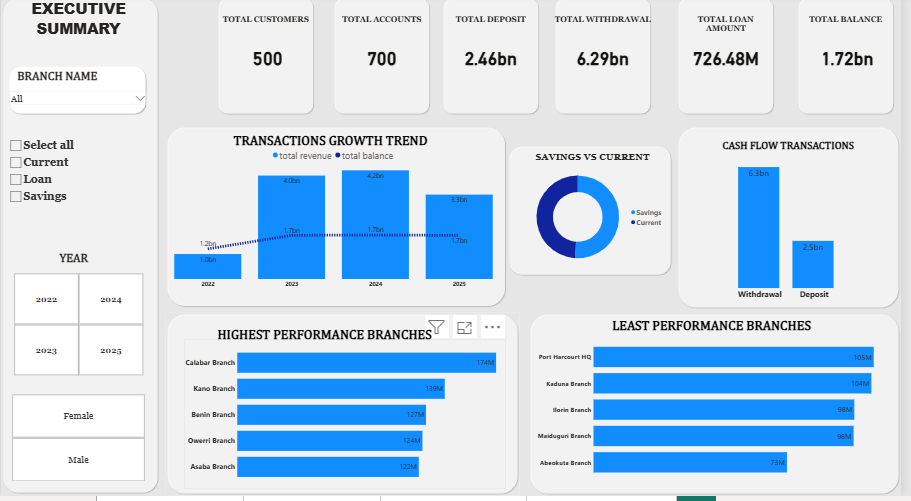

What the dashboard file says about the page in this screenshot:
{"tool":"powerbi","page":{"name":"Executive Summary","canvas":[3600,2000],"ordinal":0},"visuals":[{"type":"shape","box":[0,0,636,1996],"z":0},{"type":"textbox","box":[67.5,0,483.7,195.1],"z":1000},{"type":"group","id":"g1","title":"Group 1","box":[861.8,0,402.4,479.7],"z":2000},{"type":"group","id":"g2","title":"Group 1","box":[1325.2,0,398.4,479.7],"z":3000},{"type":"shape","box":[861.8,0,398.4,479.7],"z":4000,"group":"g1"},{"type":"shape","box":[1325.2,0,398.4,479.7],"z":4000,"group":"g2"},{"type":"group","id":"g3","title":"Group 1","box":[1760.2,0,398.4,479.7],"z":4000},{"type":"shape","box":[1760.2,0,398.4,479.7],"z":4000,"group":"g3"},{"type":"shape","box":[2207.3,0,398.4,479.7],"z":4000,"group":"g5"},{"type":"shape","box":[2699.2,0,398.4,479.7],"z":4000,"group":"g4"},{"type":"shape","box":[3178.9,0,398.4,479.7],"z":4000,"group":"g6"},{"type":"shape","box":[656,516,1369.5,733.1],"z":4000,"group":"g8"},{"type":"group","id":"g4","title":"Group 1","box":[2699.2,0,398.4,479.7],"z":5000},{"type":"textbox","box":[861.8,69.1,398.4,85.4],"z":5000,"group":"g1"},{"type":"textbox","box":[1325.2,69.1,398.4,85.4],"z":5000,"group":"g2"},{"type":"textbox","box":[1760.2,69.1,398.4,85.4],"z":5000,"group":"g3"},{"type":"textbox","box":[2207.3,69.1,398.4,85.4],"z":5000,"group":"g5"},{"type":"textbox","box":[2699.2,69.1,398.4,85.4],"z":5000,"group":"g4"},{"type":"textbox","box":[3178.9,69.1,398.4,85.4],"z":5000,"group":"g6"},{"type":"group","id":"g5","title":"Group 1","box":[2207.3,0,398.4,479.7],"z":6000},{"type":"cardVisual","fields":{"Data":["dax.total customers"]},"box":[870.9,110.1,394.3,276.4],"z":6000,"group":"g1"},{"type":"cardVisual","fields":{"Data":["dax.total balance"]},"box":[3188,110.1,394.3,276.4],"z":6000,"group":"g6"},{"type":"cardVisual","fields":{"Data":["dax.total accounts"]},"box":[1325.2,113.8,398.4,272.4],"z":6000,"group":"g2"},{"type":"cardVisual","fields":{"Data":["dax.total deposit"]},"box":[1760.2,113.8,398.4,272.4],"z":6000,"group":"g3"},{"type":"cardVisual","fields":{"Data":["dax.total withdraw"]},"box":[2207.3,113.8,398.4,272.4],"z":6000,"group":"g5"},{"type":"cardVisual","fields":{"Data":["Sum(loan.loan_amount)"]},"box":[2699.2,113.8,398.4,272.4],"z":6000,"group":"g4"},{"type":"group","id":"g6","title":"Group 1","box":[3178.9,0,402.4,479.7],"z":7000},{"type":"group","id":"g7","title":"Group 3","box":[2700,516,898.6,739.4],"z":8000},{"type":"group","id":"g8","title":"Group 1","box":[656,516,1369.5,733.1],"z":9000,"group":"g16"},{"type":"group","id":"g9","title":"Group 4","box":[2024,592,664,532],"z":9000},{"type":"lineClusteredColumnComboChart","fields":{"Category":["Date.year"],"Y":["dax.total revenue"],"Y2":["dax.total balance"]},"box":[688,604,1284,572],"z":10000,"group":"g16"},{"type":"group","id":"g10","title":"Group 5","box":[656,1264,1420,736],"z":10000},{"type":"textbox","box":[848,544,940,96],"z":11000,"group":"g16"},{"type":"group","id":"g11","title":"Group 5","box":[2108,1264,1492,736],"z":11000},{"type":"group","id":"g12","title":"Group 6","box":[25.4,274,568,208],"z":12000},{"type":"group","id":"g13","title":"Group 6","box":[23.4,560.8,572,376],"z":13000},{"type":"shape","box":[2024,592,664,532],"z":13000,"group":"g9"},{"type":"columnChart","fields":{"Y":["dax.total revenue"],"Category":["transactions.transaction_type"]},"box":[2748,614.8,792,609.2],"z":13000,"group":"g17"},{"type":"group","id":"g14","title":"Group 6","box":[27.4,1015.7,564,492],"z":14000},{"type":"shape","box":[656,1264,1420,736],"z":14000,"group":"g10"},{"type":"shape","box":[2108,1264,1492,736],"z":14000,"group":"g11"},{"type":"shape","box":[2700,516,898.6,739.4],"z":15000,"group":"g7"},{"type":"clusteredBarChart","fields":{"Category":["branch.branch_name"],"Y":["dax.total balance"]},"box":[2140,1348,1408,608],"z":15000,"group":"g11"},{"type":"clusteredBarChart","fields":{"Category":["branch.branch_name"],"Y":["dax.total balance"]},"box":[732.1,1370.6,1289.4,601.3],"z":15000,"group":"g10"},{"type":"group","id":"g15","title":"Group 6","box":[20.4,1586.5,578,358.6],"z":15000},{"type":"textbox","box":[2838.6,572,618.4,103.2],"z":15500,"group":"g17"},{"type":"group","id":"g16","title":"Group 7","box":[656,516,1369.5,733.1],"z":16000},{"type":"textbox","box":[2292.2,1283.7,1100.9,133.8],"z":16000,"group":"g11"},{"type":"textbox","box":[825.4,1318.2,941.2,118.9],"z":16000,"group":"g10"},{"type":"group","id":"g17","title":"Group 2","box":[2748,572,792,652],"z":16001,"group":"g7"},{"type":"shape","box":[25.4,274,564,208],"z":16501,"group":"g12"},{"type":"donutChart","fields":{"Y":["dax.total accounts"],"Category":["accounts.account_type"]},"box":[2090.7,671.6,564.3,423.4],"z":17000,"group":"g9"},{"type":"slicer","fields":{"Values":["branch.branch_name"]},"box":[25.4,373.8,568,106.2],"z":17002,"group":"g12"},{"type":"slicer","fields":{"Values":["accounts.account_type"]},"box":[23.4,560.8,572,376],"z":17002,"group":"g13"},{"type":"slicer","fields":{"Values":["Date.year"]},"box":[27.4,1104.3,564,419.4],"z":17002,"group":"g14"},{"type":"slicer","fields":{"Values":["customers.gender"]},"box":[20.4,1586.5,578,358.6],"z":17002,"group":"g15"},{"type":"textbox","box":[61.4,289,436,108],"z":17503,"group":"g12"},{"type":"textbox","box":[145.4,1015.7,293.7,87.9],"z":17503,"group":"g14"},{"type":"textbox","box":[2064,614.3,604.3,70.7],"z":19500,"group":"g9"}]}

Visuals, with their boxes in screenshot pixels (x1, y1, x2, y2), scaled from the page's 3600x2000 canvas onto the 911x501 screenshot:
shape: {"left": 0, "top": 0, "right": 161, "bottom": 500}
textbox: {"left": 17, "top": 0, "right": 139, "bottom": 49}
"Group 1" group: {"left": 218, "top": 0, "right": 320, "bottom": 120}
"Group 1" group: {"left": 335, "top": 0, "right": 436, "bottom": 120}
shape: {"left": 218, "top": 0, "right": 319, "bottom": 120}
shape: {"left": 335, "top": 0, "right": 436, "bottom": 120}
"Group 1" group: {"left": 445, "top": 0, "right": 546, "bottom": 120}
shape: {"left": 445, "top": 0, "right": 546, "bottom": 120}
shape: {"left": 559, "top": 0, "right": 659, "bottom": 120}
shape: {"left": 683, "top": 0, "right": 784, "bottom": 120}
shape: {"left": 804, "top": 0, "right": 905, "bottom": 120}
shape: {"left": 166, "top": 129, "right": 513, "bottom": 313}
"Group 1" group: {"left": 683, "top": 0, "right": 784, "bottom": 120}
textbox: {"left": 218, "top": 17, "right": 319, "bottom": 39}
textbox: {"left": 335, "top": 17, "right": 436, "bottom": 39}
textbox: {"left": 445, "top": 17, "right": 546, "bottom": 39}
textbox: {"left": 559, "top": 17, "right": 659, "bottom": 39}
textbox: {"left": 683, "top": 17, "right": 784, "bottom": 39}
textbox: {"left": 804, "top": 17, "right": 905, "bottom": 39}
"Group 1" group: {"left": 559, "top": 0, "right": 659, "bottom": 120}
cardVisual - dax.total customers: {"left": 220, "top": 28, "right": 320, "bottom": 97}
cardVisual - dax.total balance: {"left": 807, "top": 28, "right": 907, "bottom": 97}
cardVisual - dax.total accounts: {"left": 335, "top": 29, "right": 436, "bottom": 97}
cardVisual - dax.total deposit: {"left": 445, "top": 29, "right": 546, "bottom": 97}
cardVisual - dax.total withdraw: {"left": 559, "top": 29, "right": 659, "bottom": 97}
cardVisual - Sum(loan.loan_amount): {"left": 683, "top": 29, "right": 784, "bottom": 97}
"Group 1" group: {"left": 804, "top": 0, "right": 906, "bottom": 120}
"Group 3" group: {"left": 683, "top": 129, "right": 910, "bottom": 314}
"Group 1" group: {"left": 166, "top": 129, "right": 513, "bottom": 313}
"Group 4" group: {"left": 512, "top": 148, "right": 680, "bottom": 282}
lineClusteredColumnComboChart - Date.year x dax.total revenue: {"left": 174, "top": 151, "right": 499, "bottom": 295}
"Group 5" group: {"left": 166, "top": 317, "right": 525, "bottom": 500}
textbox: {"left": 215, "top": 136, "right": 452, "bottom": 160}
"Group 5" group: {"left": 533, "top": 317, "right": 910, "bottom": 500}
"Group 6" group: {"left": 6, "top": 69, "right": 150, "bottom": 121}
"Group 6" group: {"left": 6, "top": 140, "right": 151, "bottom": 235}
shape: {"left": 512, "top": 148, "right": 680, "bottom": 282}
columnChart - dax.total revenue x transactions.transaction_type: {"left": 695, "top": 154, "right": 896, "bottom": 307}
"Group 6" group: {"left": 7, "top": 254, "right": 150, "bottom": 378}
shape: {"left": 166, "top": 317, "right": 525, "bottom": 500}
shape: {"left": 533, "top": 317, "right": 910, "bottom": 500}
shape: {"left": 683, "top": 129, "right": 910, "bottom": 314}
clusteredBarChart - branch.branch_name x dax.total balance: {"left": 542, "top": 338, "right": 898, "bottom": 490}
clusteredBarChart - branch.branch_name x dax.total balance: {"left": 185, "top": 343, "right": 512, "bottom": 494}
"Group 6" group: {"left": 5, "top": 397, "right": 151, "bottom": 487}
textbox: {"left": 718, "top": 143, "right": 875, "bottom": 169}
"Group 7" group: {"left": 166, "top": 129, "right": 513, "bottom": 313}
textbox: {"left": 580, "top": 322, "right": 859, "bottom": 355}
textbox: {"left": 209, "top": 330, "right": 447, "bottom": 360}
"Group 2" group: {"left": 695, "top": 143, "right": 896, "bottom": 307}
shape: {"left": 6, "top": 69, "right": 149, "bottom": 121}
donutChart - dax.total accounts x accounts.account_type: {"left": 529, "top": 168, "right": 672, "bottom": 274}
slicer - branch.branch_name: {"left": 6, "top": 94, "right": 150, "bottom": 120}
slicer - accounts.account_type: {"left": 6, "top": 140, "right": 151, "bottom": 235}
slicer - Date.year: {"left": 7, "top": 277, "right": 150, "bottom": 382}
slicer - customers.gender: {"left": 5, "top": 397, "right": 151, "bottom": 487}
textbox: {"left": 16, "top": 72, "right": 126, "bottom": 99}
textbox: {"left": 37, "top": 254, "right": 111, "bottom": 276}
textbox: {"left": 522, "top": 154, "right": 675, "bottom": 172}
